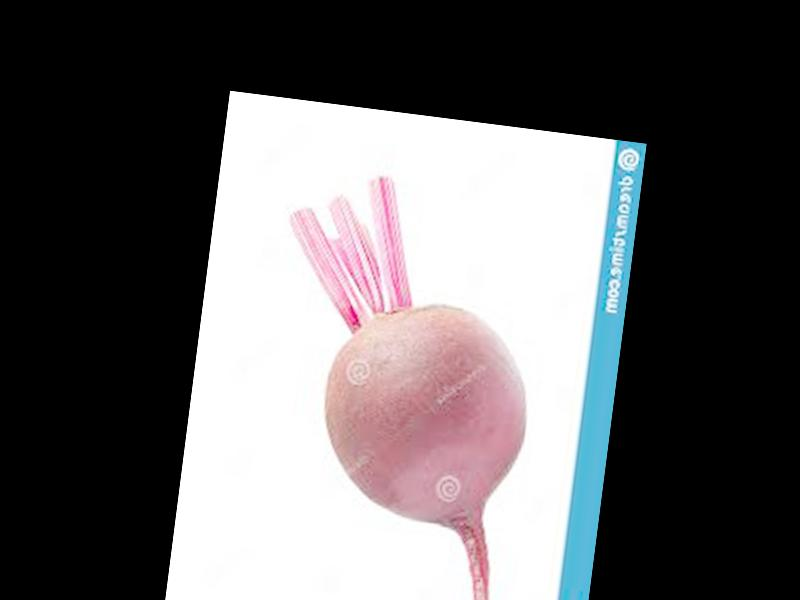Beet: (240, 167, 550, 600)
